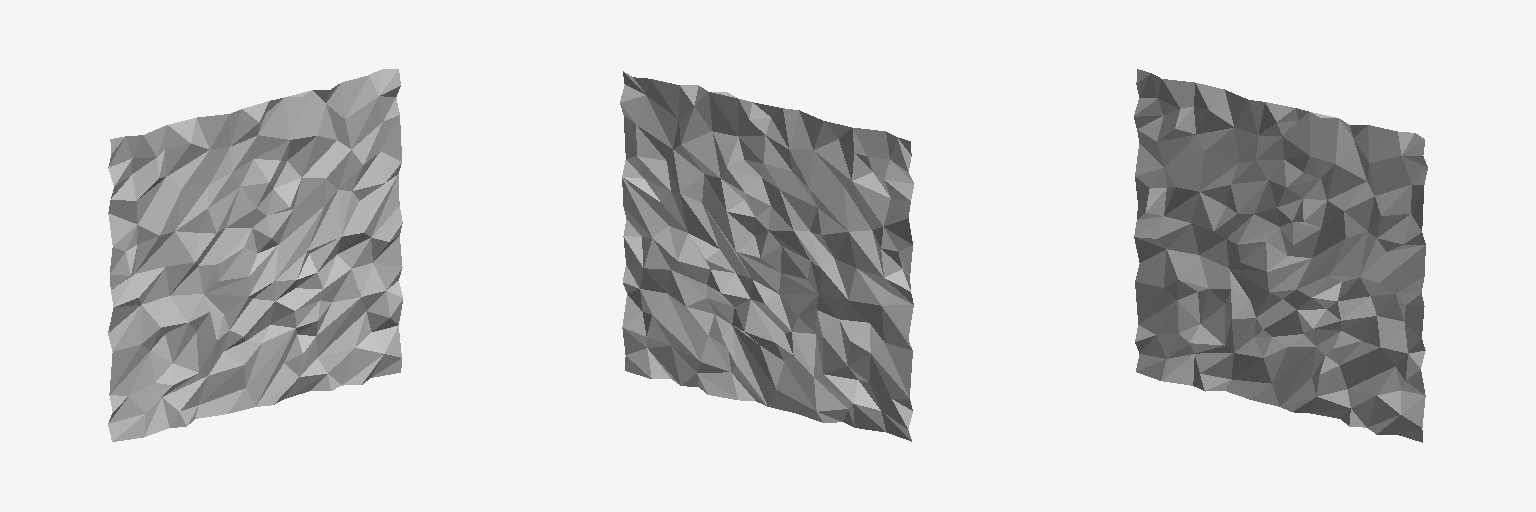
The model's file is sky.obj.
3 views of the same model, side by side, from view 1: azimuth 30°, elevation 25°; view 2: azimuth 150°, elevation 25°; view 3: azimuth 330°, elevation 25° (orthographic).
Bounding box in the file's own units: 1032 × 1032 × 65.29.